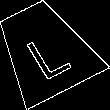L_NW: (17, 20, 73, 79)
